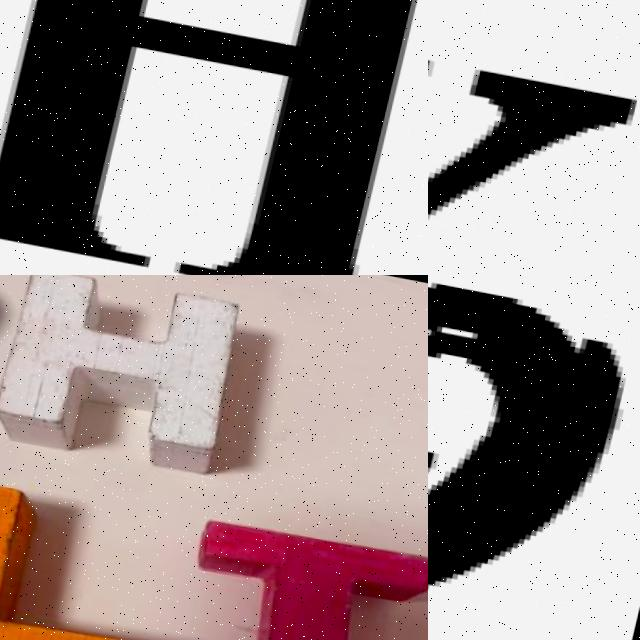2: (428, 275, 640, 640)
H: (0, 275, 245, 468)
I: (175, 505, 428, 640)
L: (0, 472, 198, 640)
X: (428, 0, 640, 275)
